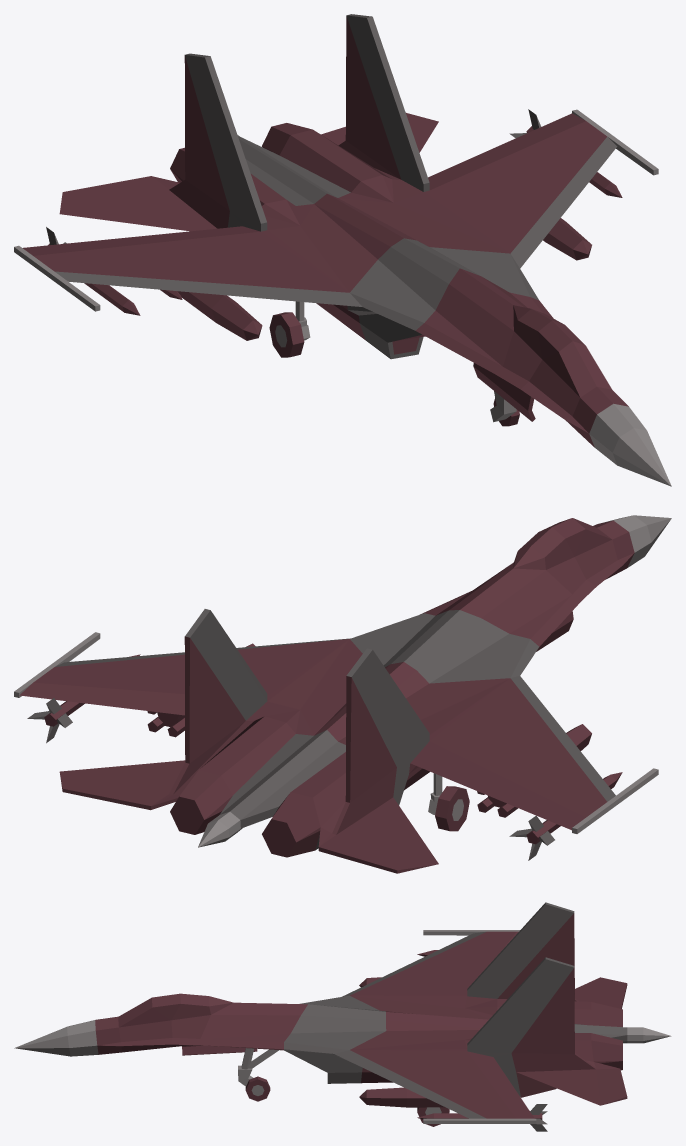
File: SM_Jet_B_Military.fbx
3 views of the same model, one above another, from view 1: azimuth 30°, elevation 25°; view 2: azimuth 150°, elevation 25°; view 3: azimuth 270°, elevation 25° (orthographic). The views are drawn at different scales.
Parts seen in each view (by area): view 1: SM_Jet_B_Military_Base, SM_Jet_B_Military_Wheel_BR; view 2: SM_Jet_B_Military_Base, SM_Jet_B_Military_Wheel_BR; view 3: SM_Jet_B_Military_Base, SM_Jet_B_Military_Wheel_F.
Boxes of the visible parts, left/top/right/bottom form: SM_Jet_B_Military_Base: left=14, top=14, right=671, bottom=486; SM_Jet_B_Military_Wheel_BR: left=269, top=312, right=304, bottom=357; SM_Jet_B_Military_Base: left=14, top=515, right=671, bottom=873; SM_Jet_B_Military_Wheel_BR: left=435, top=786, right=469, bottom=831; SM_Jet_B_Military_Base: left=14, top=902, right=671, bottom=1131; SM_Jet_B_Military_Wheel_F: left=245, top=1076, right=270, bottom=1101.
Bounding box in the file's own units: 14.86 × 6.04 × 21.67.
